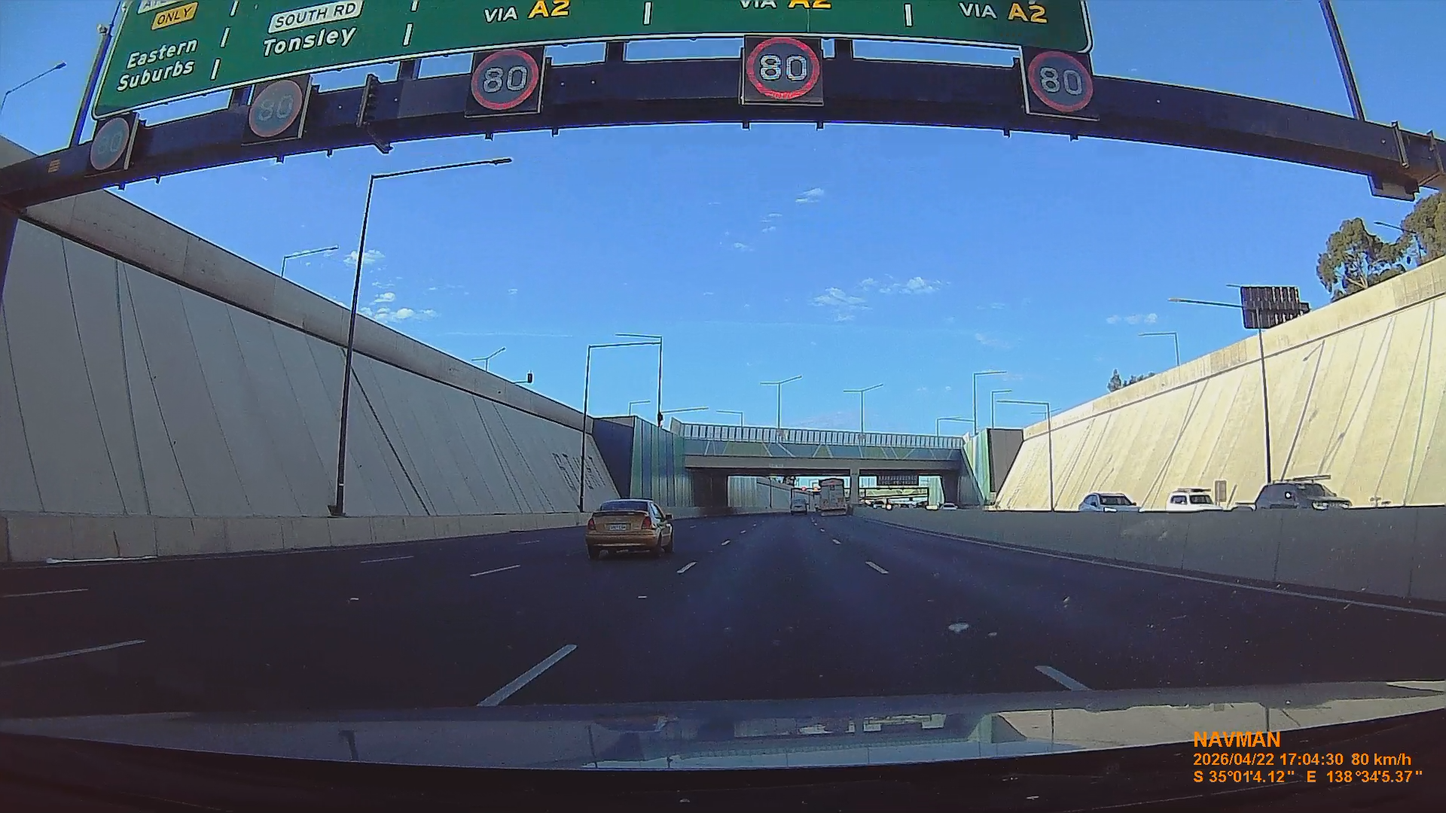road barriers: (883, 504, 1444, 606)
